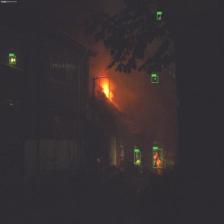fire: (100, 77, 110, 99)
